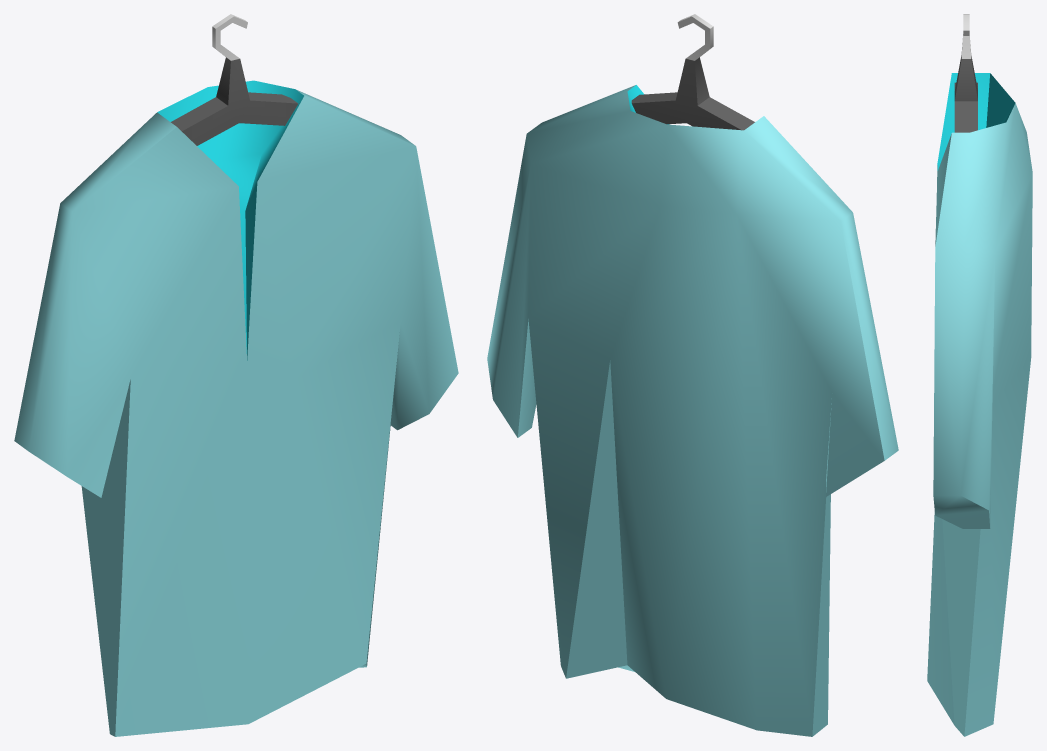
The model's file is clothes_018.glb.
3 views of the same model, side by side, from view 1: azimuth 30°, elevation 25°; view 2: azimuth 150°, elevation 25°; view 3: azimuth 270°, elevation 25° (orthographic). The views are drawn at different scales.
Parts seen in each view (by area): view 1: clothes_018; view 2: clothes_018; view 3: clothes_018.
Part boxes in pixels (<box>): clothes_018: <box>14,14,458,736</box>; clothes_018: <box>487,14,898,736</box>; clothes_018: <box>927,14,1032,736</box>.
Size of the model in its own units: 0.5774 by 0.9291 by 0.1324.
Materials: 1 (1 with a texture image).
